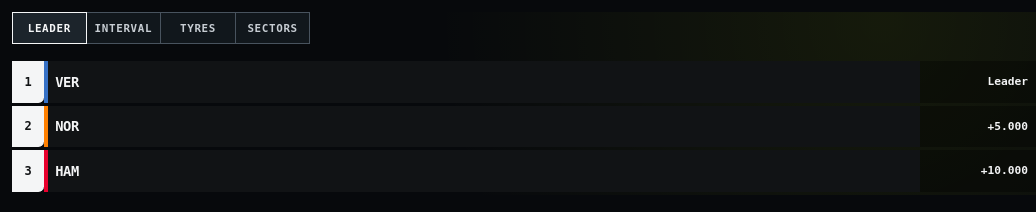
Test case: enforces the causal boundary: sectors completed after the cursor are unavailable
Step 1. Click the button "Sectors" → (273, 28), box [236, 12, 310, 44]
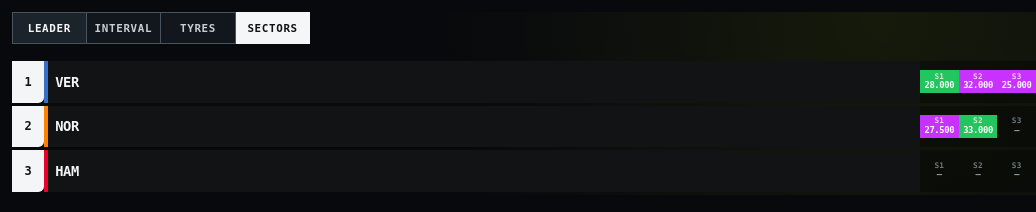
Now the element with class "live-leaderboard__sector" next to "33.000" shows "—", box [1014, 125, 1019, 135]
